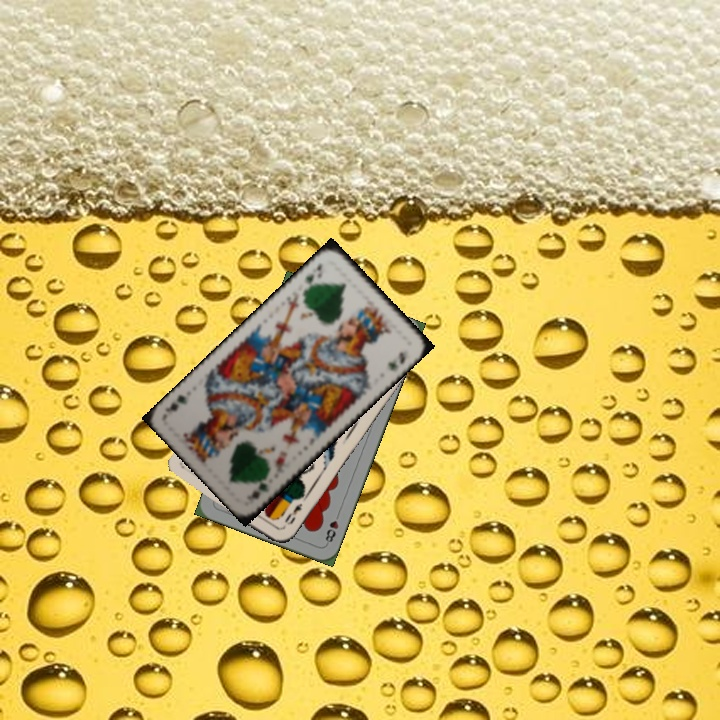EO: (280, 499, 305, 527)
GK: (242, 470, 272, 507), (301, 259, 325, 292)
H8: (321, 508, 343, 547)
